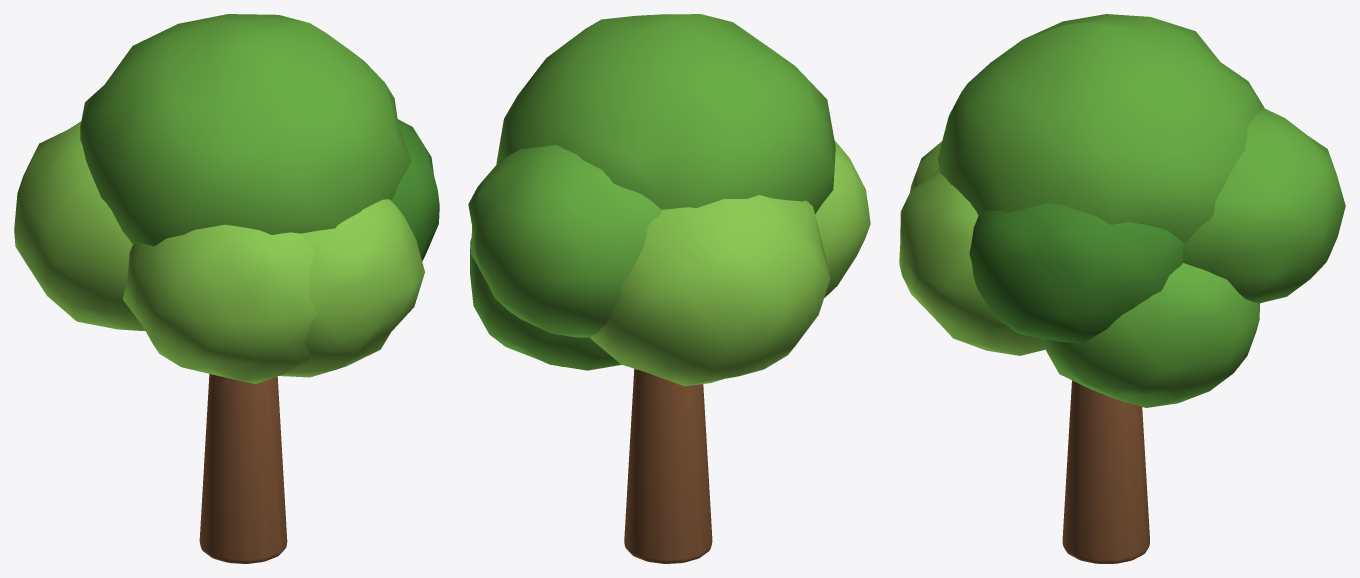
The model's file is Tree.fbx.
3 renders of one model, left to right at view 1: azimuth 30°, elevation 25°; view 2: azimuth 150°, elevation 25°; view 3: azimuth 270°, elevation 25°, orthographic.
Visible parts, largest first — view 1: Tree; view 2: Tree; view 3: Tree.
Part boxes in pixels (<box>): Tree: <box>14,14,439,563</box>; Tree: <box>468,14,870,563</box>; Tree: <box>899,14,1345,563</box>.
Size of the model in its own units: 2.29 by 3.31 by 2.57.
Materials: 1 (1 with a texture image).
